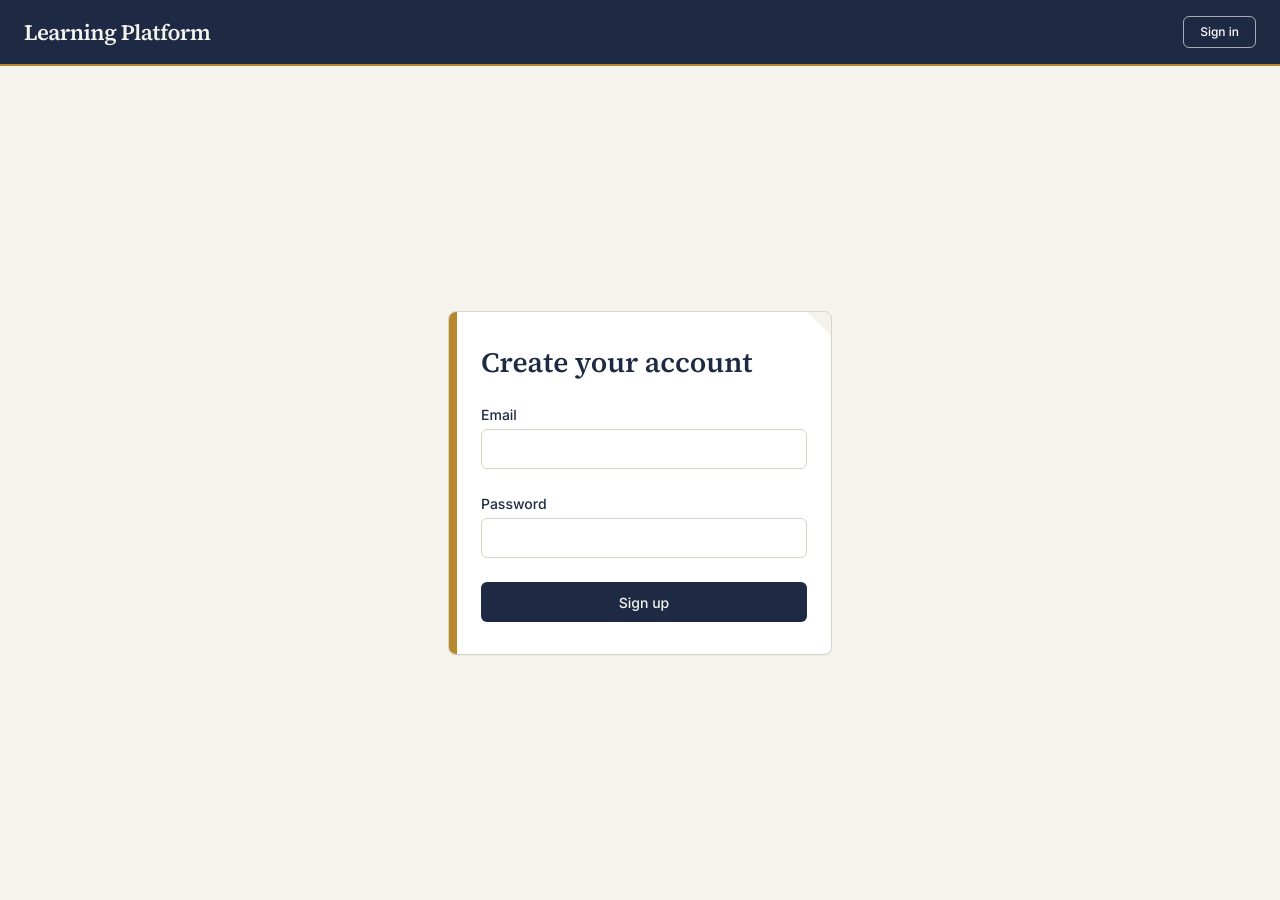
Scenario: SignUpPage (SIGN-UP-001) › shows a failure message when the server rejects the sign-up
The width and height of the screenshot is (1280, 900).
Note: submitting the form
Type "taken@example.com" into the field labelled "Email" at [644, 449], box [481,429,807,469]
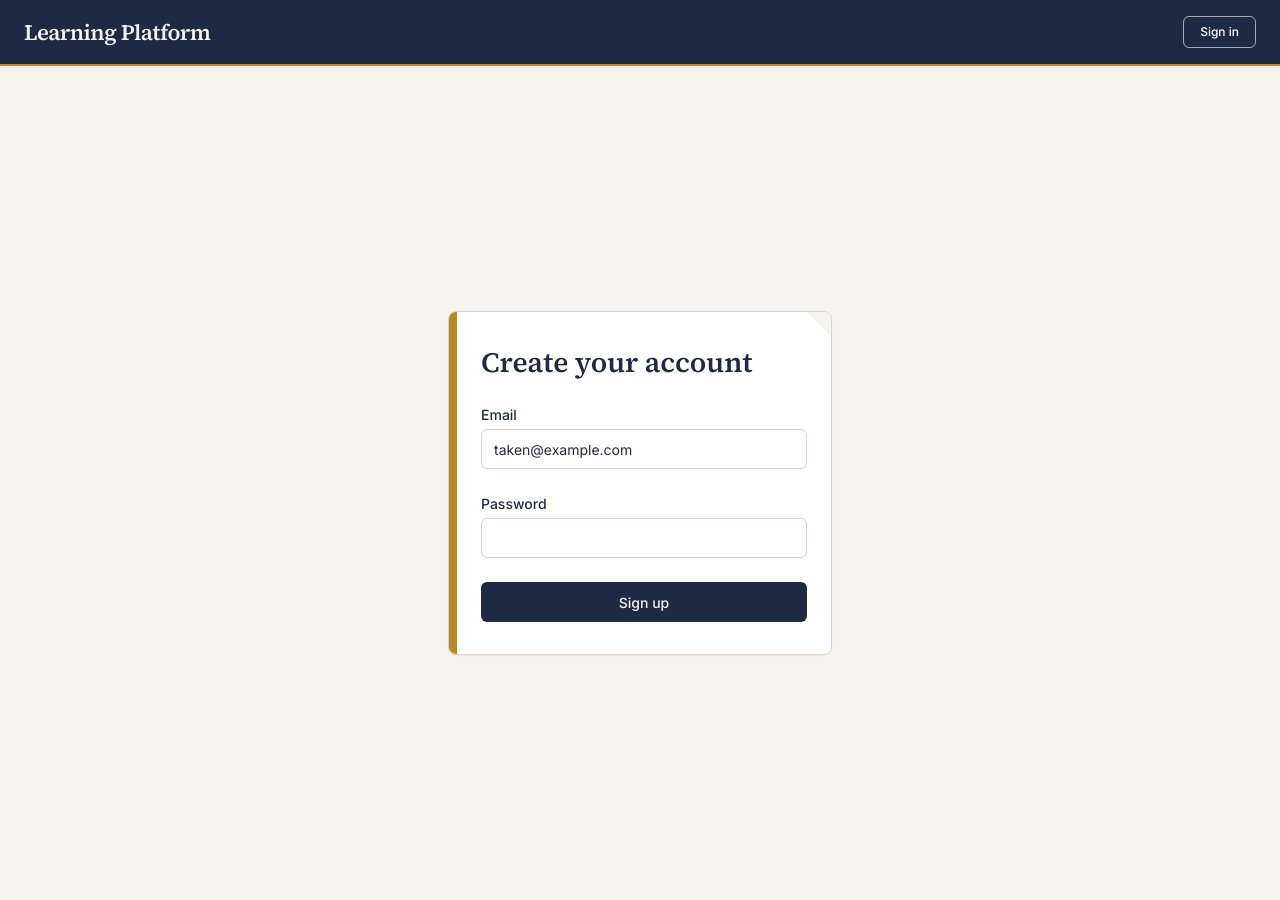
Type "longenough" into the password field labelled "Password" at [644, 538], box [481,518,807,558]
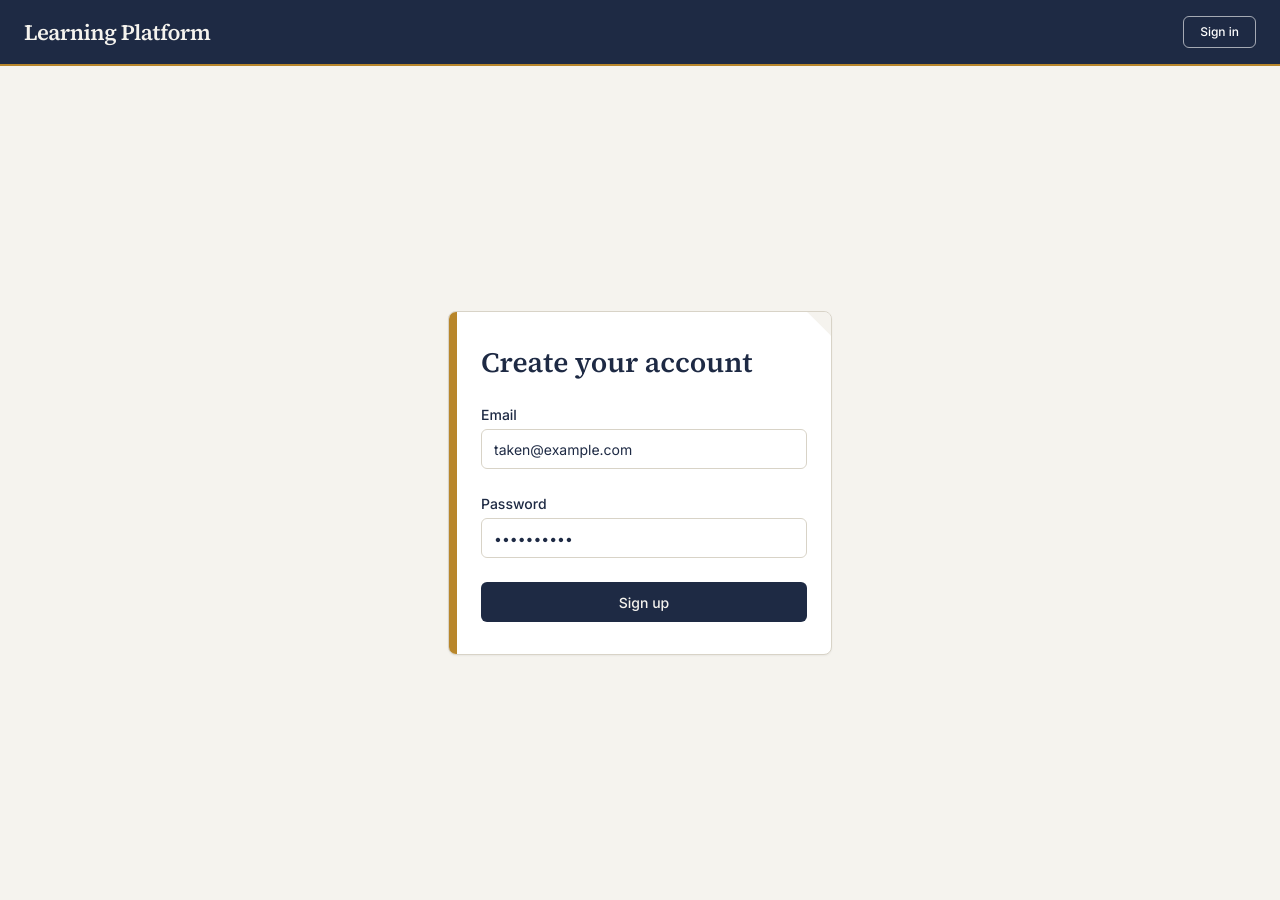
Click the button "Sign up" at [644, 602], box [481,582,807,622]
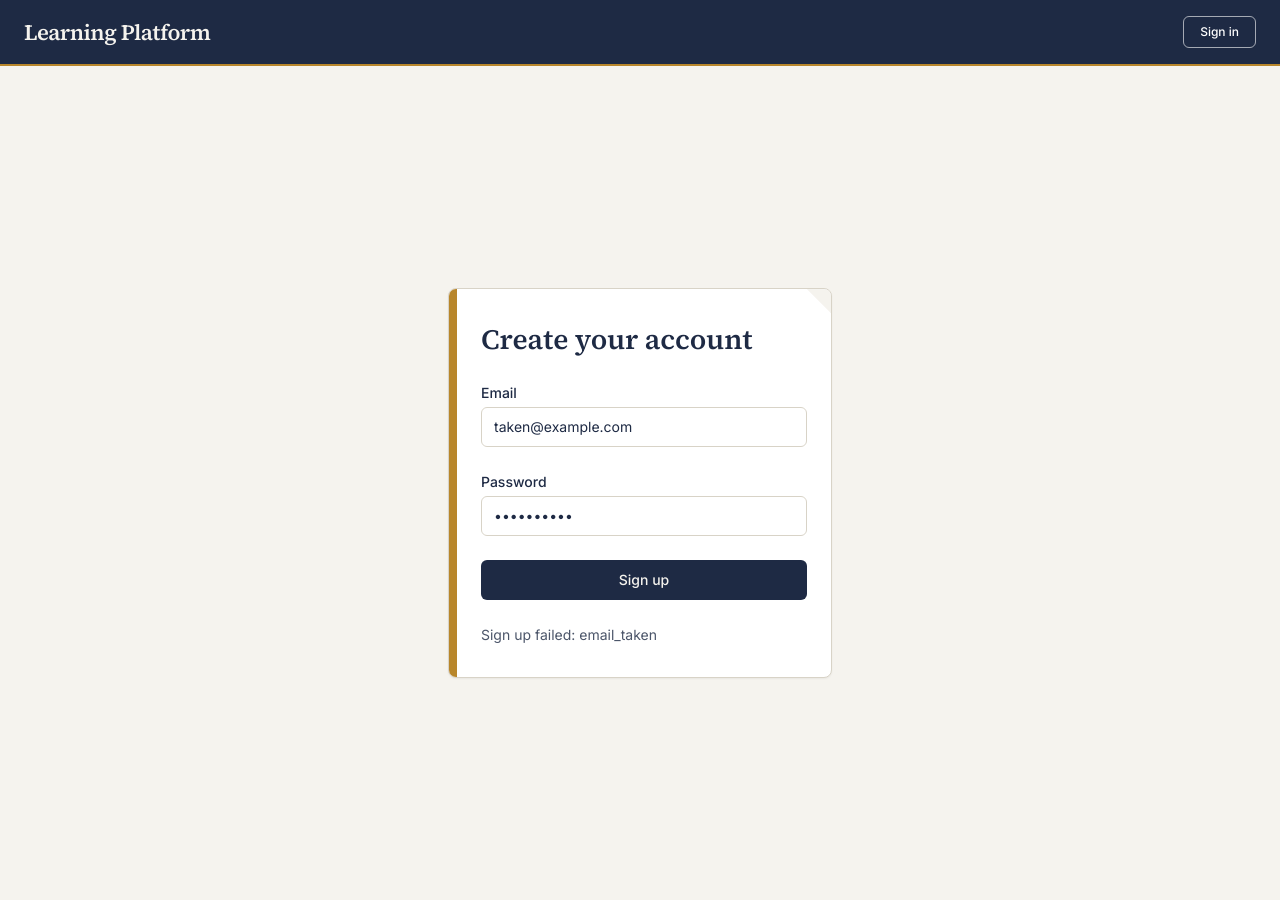
Now the message shows "email_taken", box [481,626,657,643]
